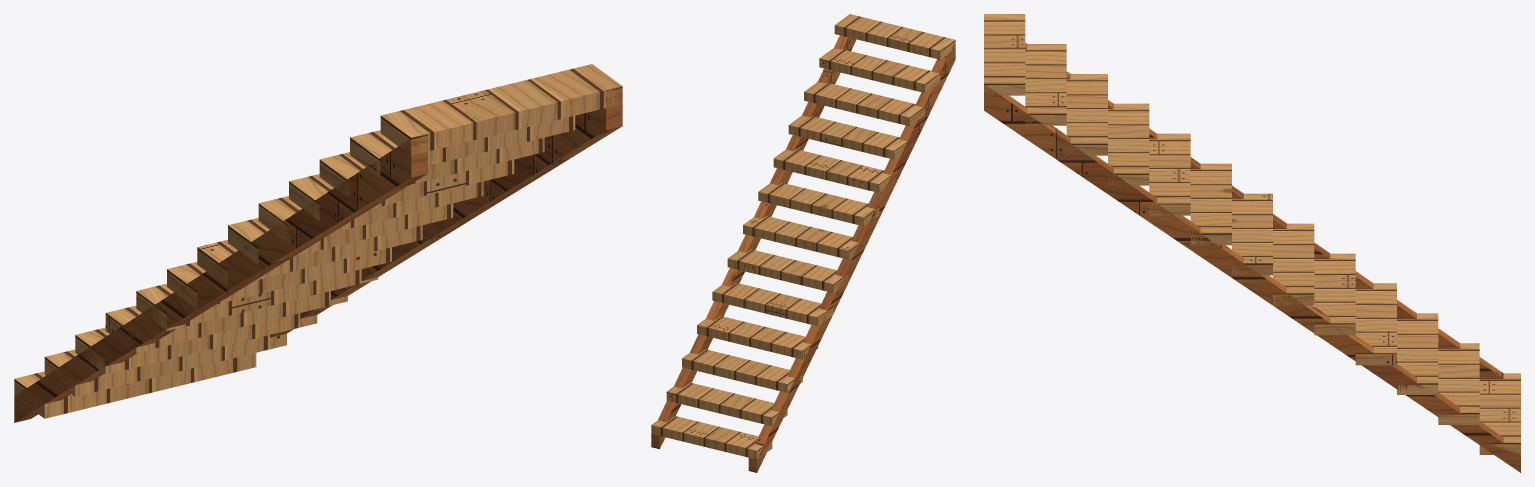
File: stairs_260.glb
3 renders of one model, left to right at view 1: azimuth 30°, elevation 25°; view 2: azimuth 150°, elevation 25°; view 3: azimuth 270°, elevation 25°, orthographic. The views are drawn at different scales.
Parts seen in each view (by area): view 1: STAIRS_260; view 2: STAIRS_260; view 3: STAIRS_260.
Boxes of the visible parts, box(x1,y1,x2,y2) form: STAIRS_260: box(14, 64, 622, 422); STAIRS_260: box(651, 14, 955, 472); STAIRS_260: box(984, 14, 1520, 472).
Size of the model in its own units: 1 by 2.6 by 3.25.
2 materials, 2 textured.
